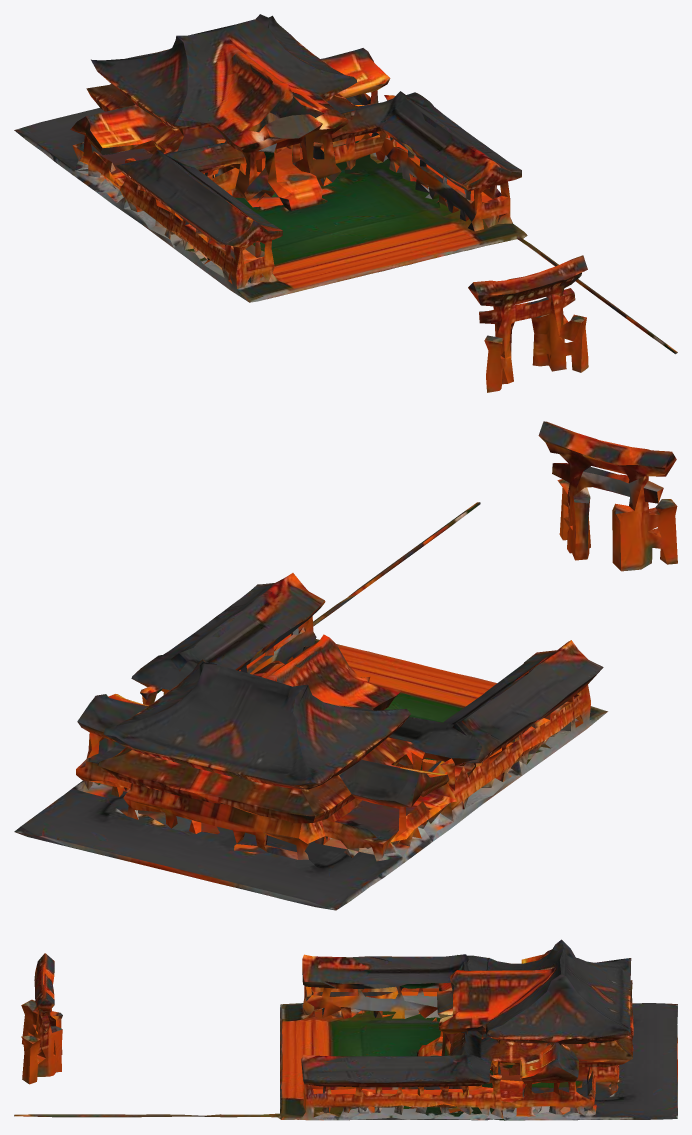
File: itsukushima-shrine.glb
The picture shows the model from 3 angles, top to bottom: view 1: azimuth 30°, elevation 25°; view 2: azimuth 150°, elevation 25°; view 3: azimuth 270°, elevation 25°; orthographic projection. The views are drawn at different scales.
Parts seen in each view (by area): view 1: logan-textured.obj; view 2: logan-textured.obj; view 3: logan-textured.obj.
Boxes of the visible parts, left/top/right/bottom form: logan-textured.obj: left=14, top=14, right=677, bottom=392; logan-textured.obj: left=14, top=421, right=677, bottom=910; logan-textured.obj: left=14, top=939, right=677, bottom=1120.
Bounding box in the file's own units: 0.4411 × 0.1757 × 1.
Materials: 1 (1 with a texture image).
